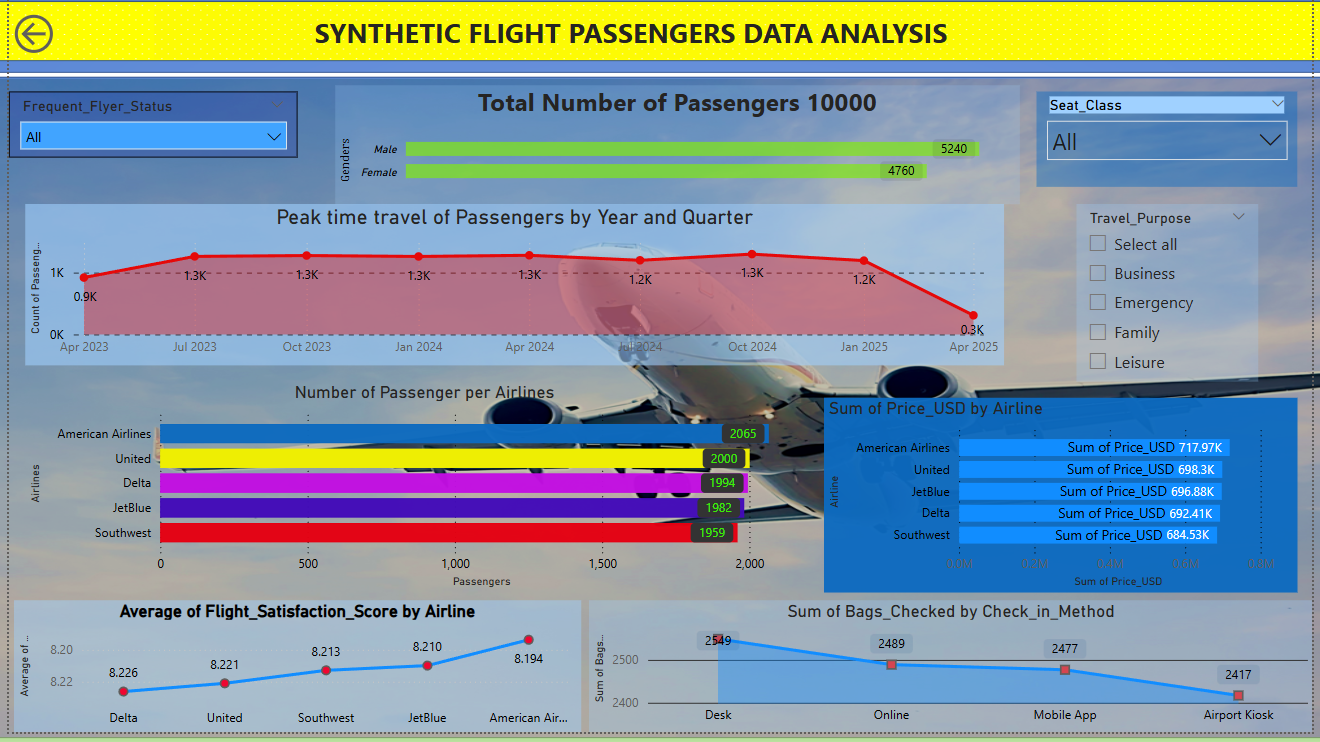

What the dashboard file says about the page in this screenshot:
{"tool":"powerbi","page":{"name":"Page 1","canvas":[1280,720],"ordinal":0},"visuals":[{"type":"barChart","title":"Total Number of Passengers 10000","fields":{"Y":["CountNonNull(synthetic_flight_passenger_data.Age)"],"Category":["synthetic_flight_passenger_data.Gender"]},"box":[11.7,105.2,441.4,182.7],"z":0},{"type":"slicer","fields":{"Values":["synthetic_flight_passenger_data.Frequent_Flyer_Status"]},"box":[986.5,10.2,282.1,64.3],"z":1000},{"type":"slicer","fields":{"Values":["synthetic_flight_passenger_data.Travel_Purpose"]},"box":[1102.4,109.1,177.8,174.1],"z":2000},{"type":"clusteredBarChart","title":"Number of Passenger per Airlines","fields":{"Category":["synthetic_flight_passenger_data.Airline"],"Y":["CountNonNull(synthetic_flight_passenger_data.Passenger_ID)"]},"box":[463.5,92,641.4,209.7],"z":3000},{"type":"lineChart","title":"Peak time travel of Passengers by Year and Quarter","fields":{"Category":["synthetic_flight_passenger_data.Departure_Time.Variation.Date Hierarchy.Year","synthetic_flight_passenger_data.Departure_Time.Variation.Date Hierarchy.Quarter"],"Y":["CountNonNull(synthetic_flight_passenger_data.Passenger_ID)"]},"box":[14.7,301.7,1253.3,183.9],"z":4000},{"type":"clusteredBarChart","fields":{"Category":["synthetic_flight_passenger_data.Airline"],"Y":["Sum(synthetic_flight_passenger_data.Price_USD)"]},"box":[12.3,508.9,611.9,202.3],"z":5000},{"type":"slicer","fields":{"Values":["synthetic_flight_passenger_data.Seat_Class"]},"box":[1088.9,500.3,179,197.4],"z":6000},{"type":"lineChart","fields":{"Y":["Avg(synthetic_flight_passenger_data.Flight_Satisfaction_Score)"],"Category":["synthetic_flight_passenger_data.Airline"]},"box":[609.5,524.9,456.2,186.4],"z":7000},{"type":"actionButton","box":[0,0,168.9,91.9],"z":7001},{"type":"textbox","box":[191.6,10.8,683.1,51],"z":7002}]}

Visuals, with their boxes in screenshot pixels (x1, y1, x2, y2), scaled from the page's 1280x720 canvas onto the 1320x742 screenshot:
"Total Number of Passengers 10000" barChart: 12, 108, 467, 297
slicer - synthetic_flight_passenger_data.Frequent_Flyer_Status: 1017, 11, 1308, 77
slicer - synthetic_flight_passenger_data.Travel_Purpose: 1137, 112, 1319, 292
"Number of Passenger per Airlines" clusteredBarChart: 478, 95, 1139, 311
"Peak time travel of Passengers by Year and Quarter" lineChart: 15, 311, 1308, 500
clusteredBarChart - synthetic_flight_passenger_data.Airline x Sum(synthetic_flight_passenger_data.Price_USD): 13, 524, 644, 733
slicer - synthetic_flight_passenger_data.Seat_Class: 1123, 516, 1308, 719
lineChart - Avg(synthetic_flight_passenger_data.Flight_Satisfaction_Score) x synthetic_flight_passenger_data.Airline: 629, 541, 1099, 733
actionButton: 0, 0, 174, 95
textbox: 198, 11, 902, 64
